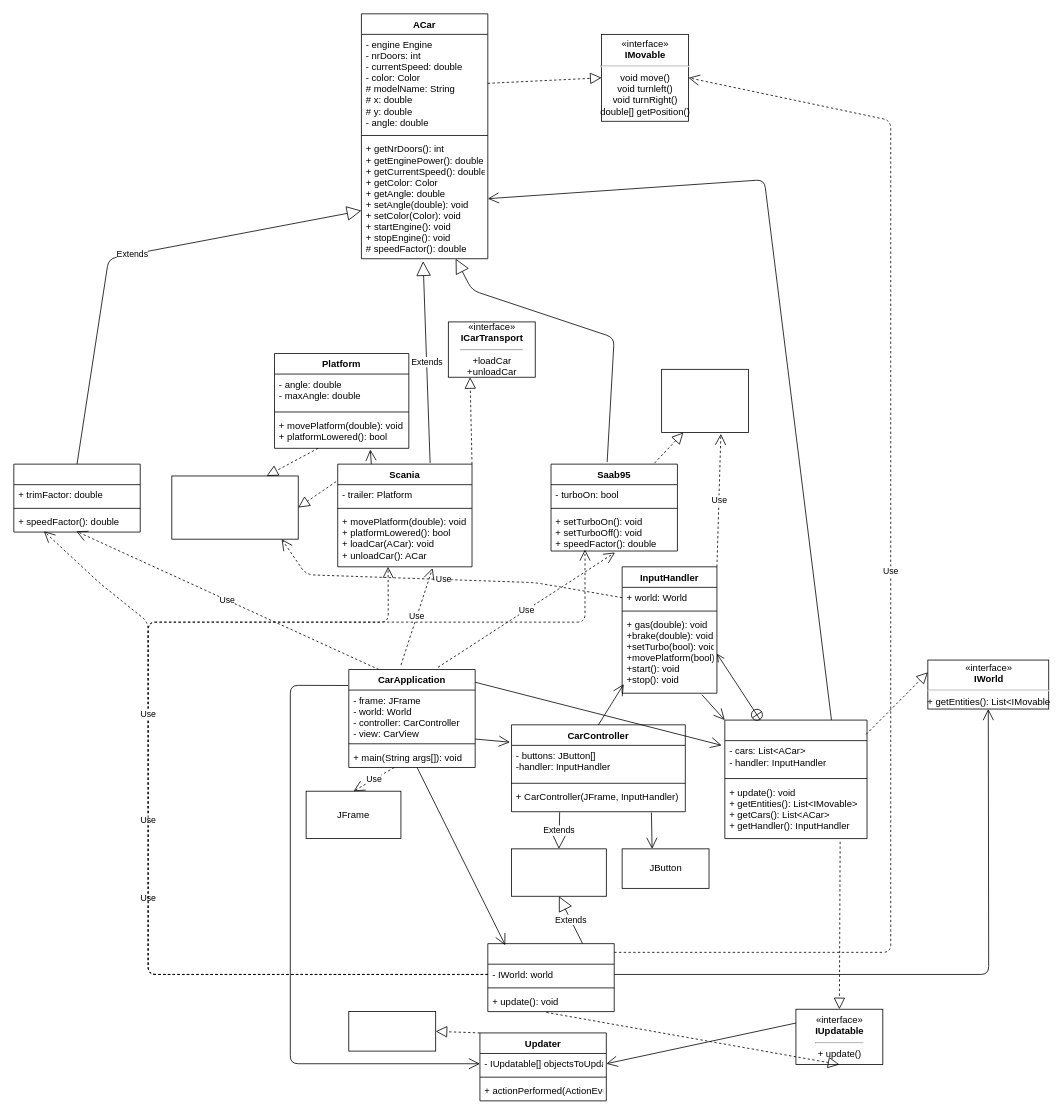
The diagram is 1063 pixels wide and 1117 high, and some of its shapes have lost their labels. Here are the shapes that lost their labels. From the top down, the box of each, then its label:
(661, 369, 749, 433): «interface» ITurbo +setTurboOn +setTurboOff
(13, 463, 140, 532): Volvo240
(171, 475, 298, 539): «interface» IPlatform + movePlatform(double): void + platformLowered(): bool
(724, 719, 867, 839): World
(511, 848, 606, 896): JPanel
(487, 943, 614, 1012): CarView
(348, 1011, 436, 1051): ActionListener
